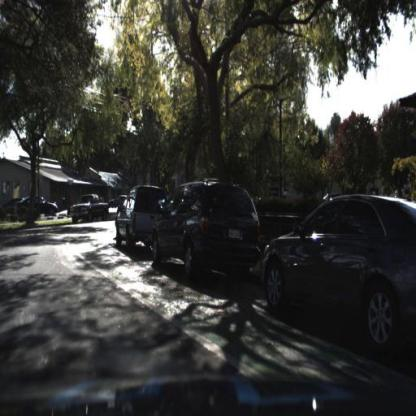car: (260, 191, 416, 351), (151, 186, 261, 268), (113, 182, 166, 252), (70, 192, 110, 223), (19, 196, 60, 224), (105, 183, 135, 215), (2, 190, 27, 220)
